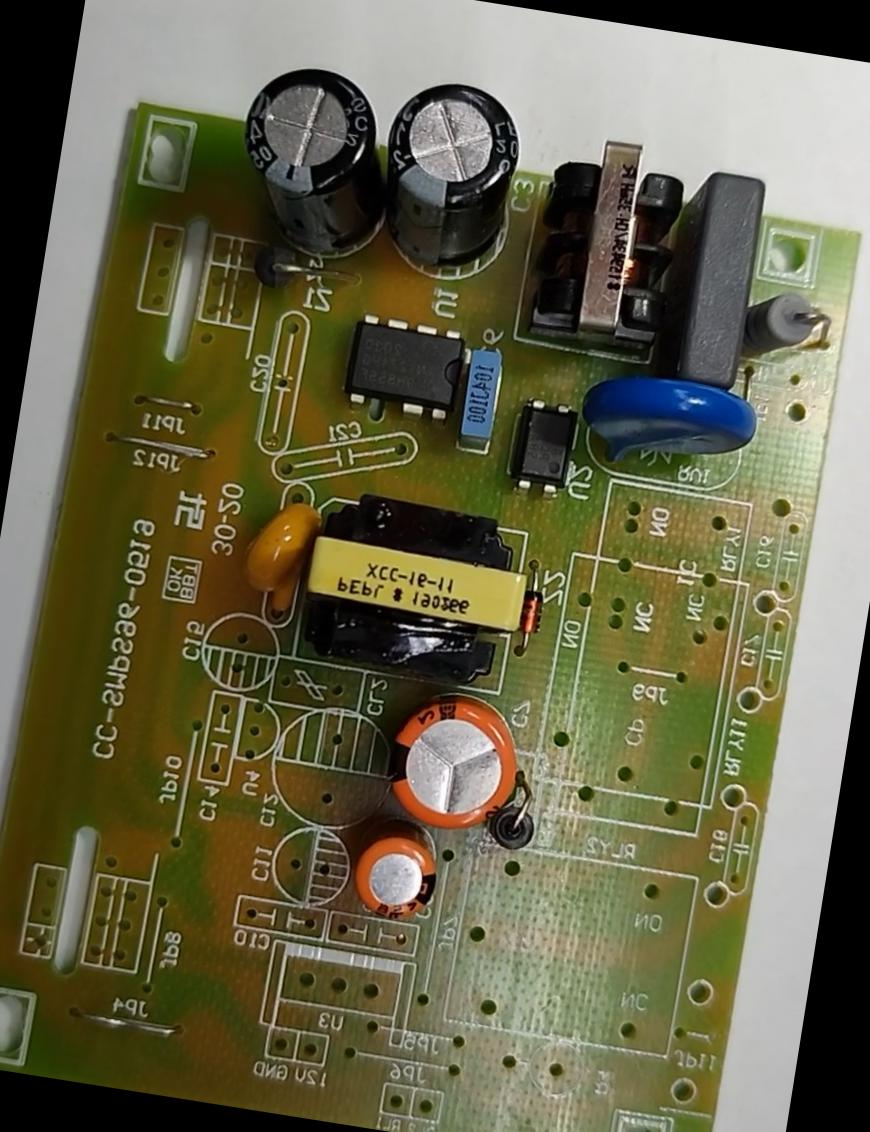Cap1: (364, 670, 536, 854)
Cap2: (336, 805, 455, 938)
Cap3: (351, 60, 545, 310)
Cap4: (211, 48, 422, 288)
MOSFET: (332, 304, 488, 434)
Mov: (558, 352, 776, 498)
Resistor: (720, 276, 848, 387)
Transformer: (263, 473, 544, 702), (517, 122, 708, 369)
